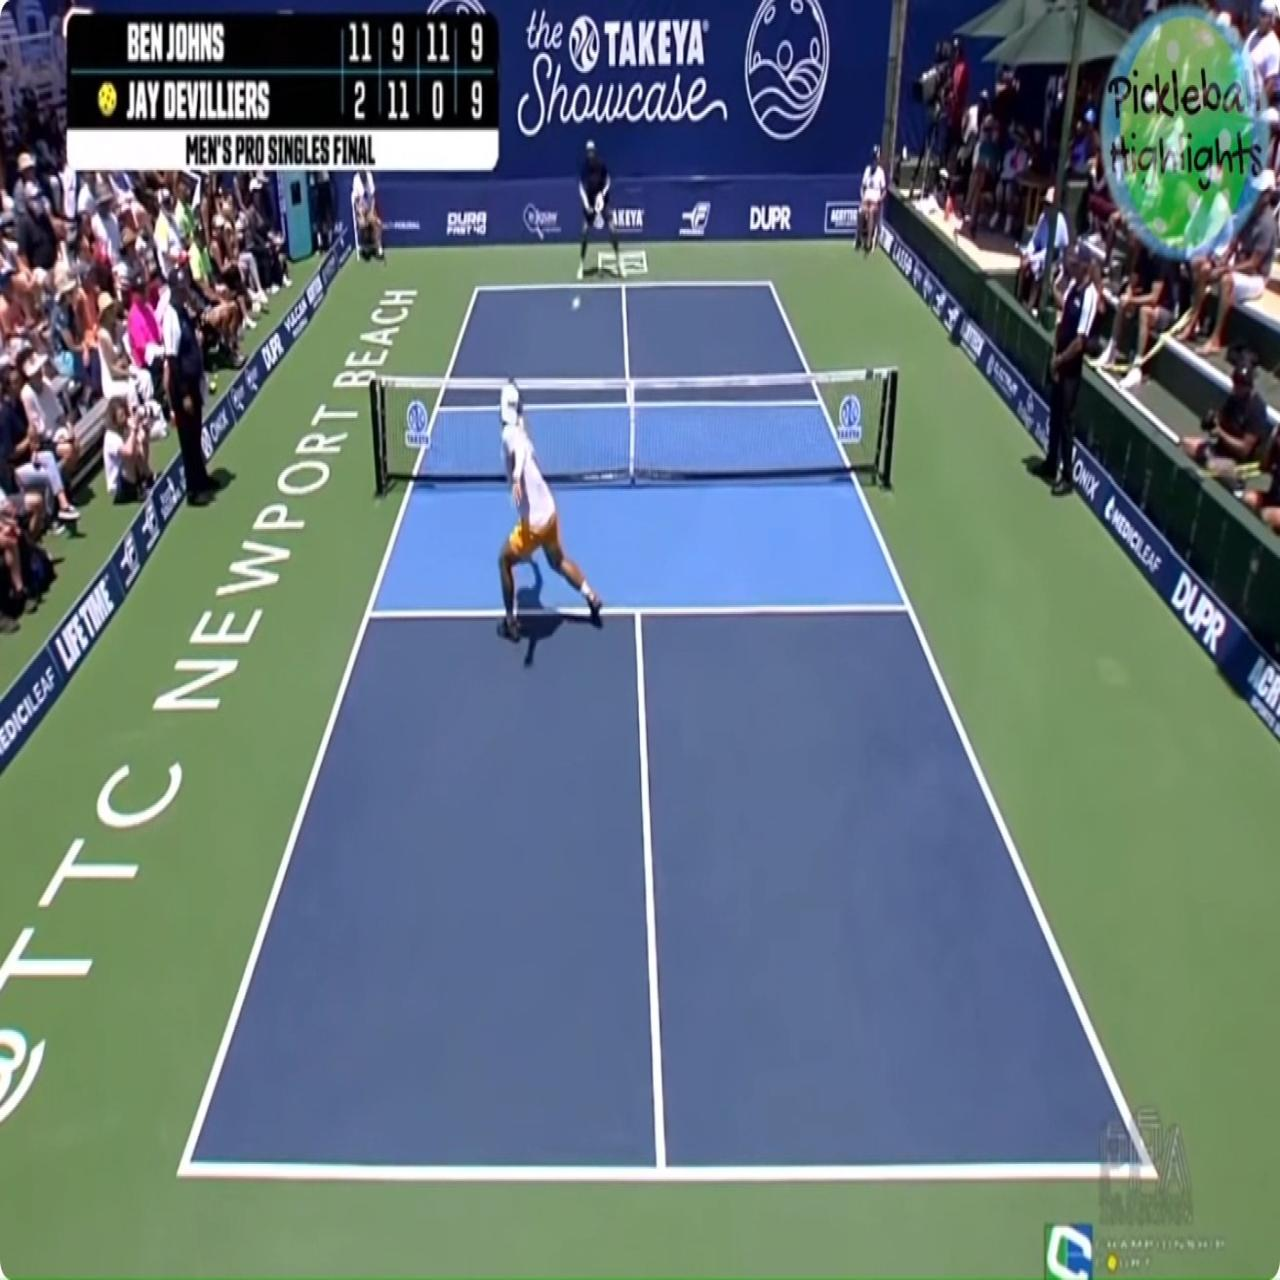pickleball: (571, 294, 581, 312)
